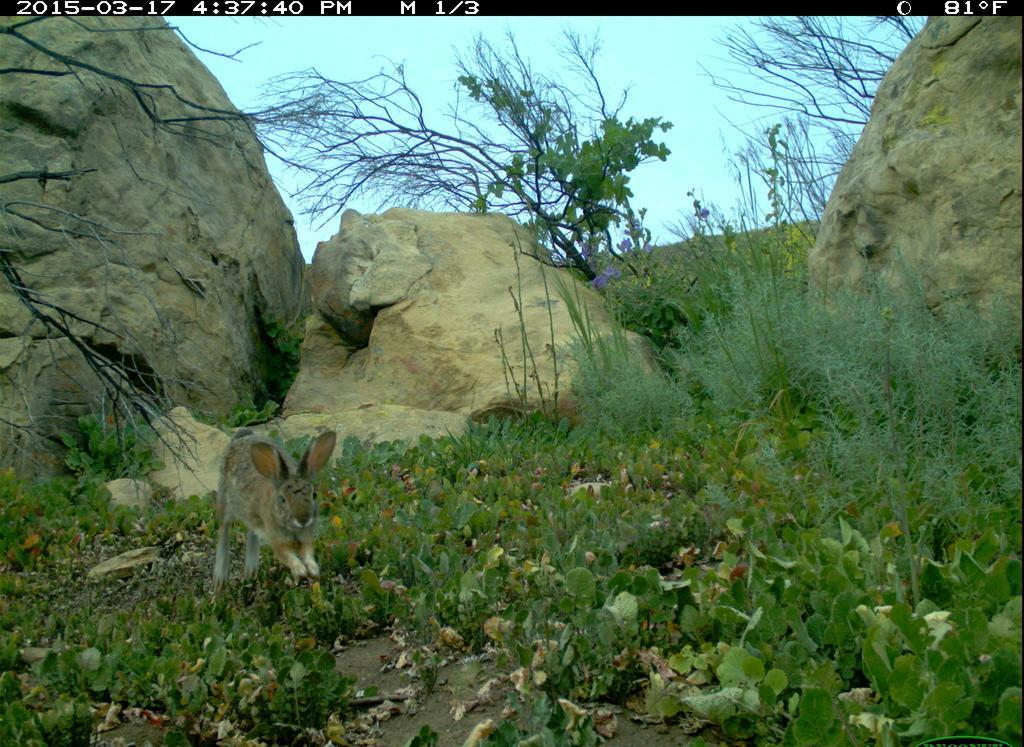rabbit: (190, 422, 344, 609)
